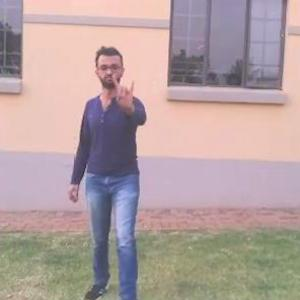takeoff-hand: (107, 68, 141, 109)
